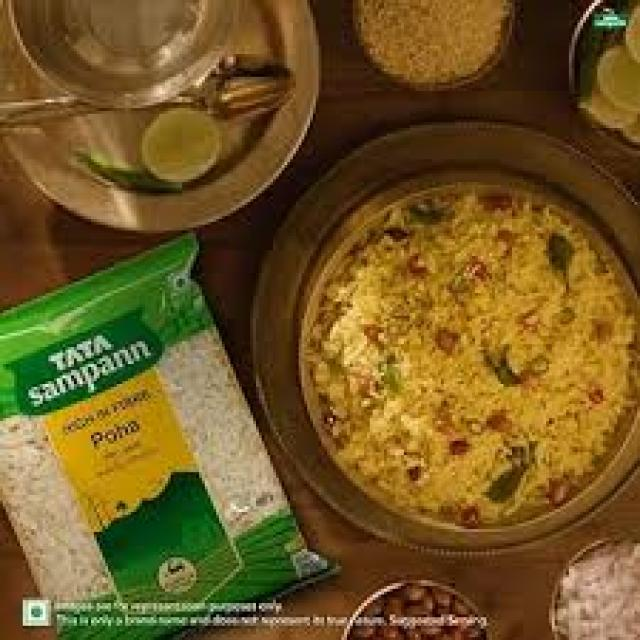POHA: (300, 179, 635, 512)
